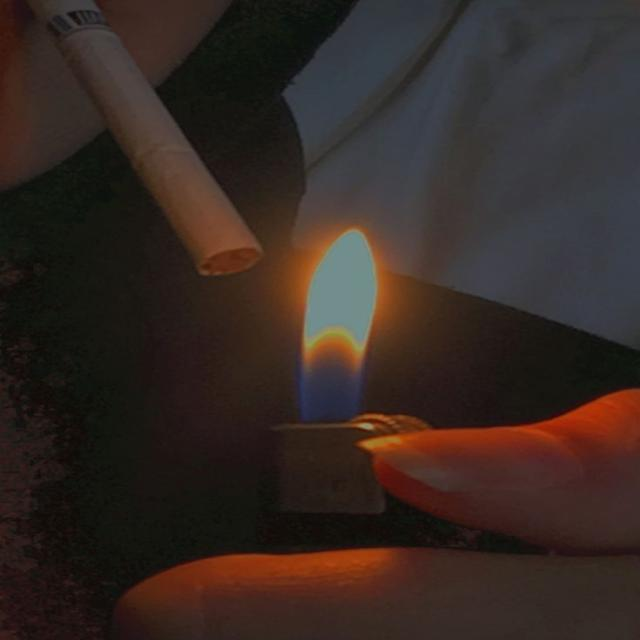fire: (300, 224, 381, 422)
